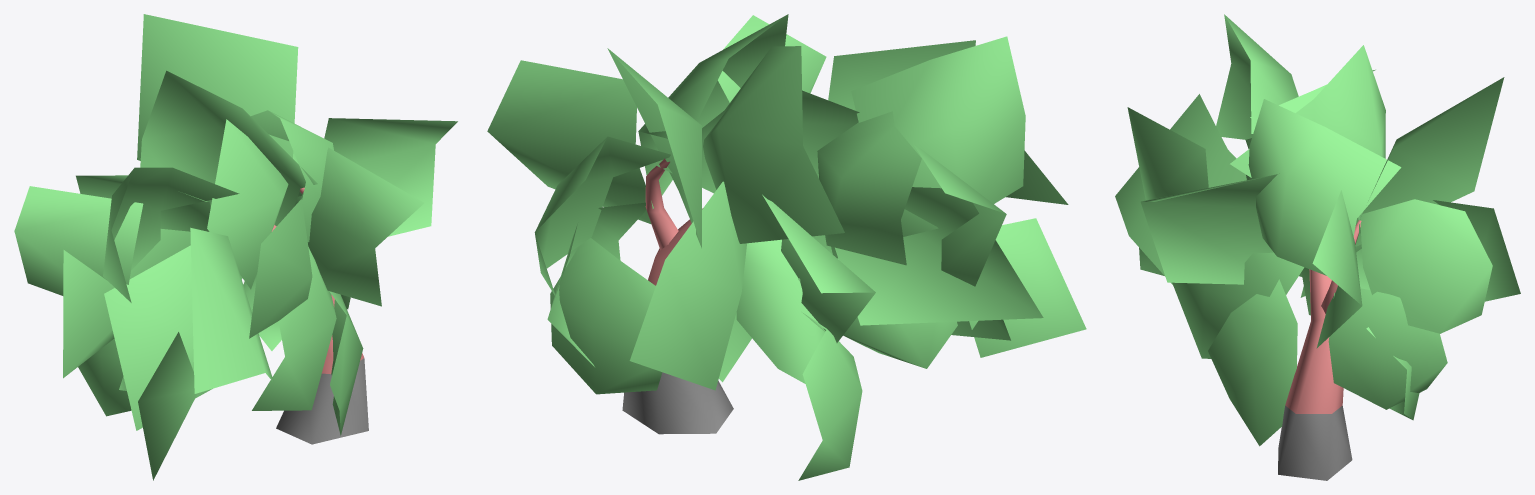
File: Oren_Darkelf_tree04.gltf
3 views of the same model, side by side, from view 1: azimuth 30°, elevation 25°; view 2: azimuth 150°, elevation 25°; view 3: azimuth 270°, elevation 25° (orthographic). The views are drawn at different scales.
Visible parts, largest first — view 1: Oren_Darkelf_tree04; view 2: Oren_Darkelf_tree04; view 3: Oren_Darkelf_tree04.
Boxes of the visible parts, x1=… form: Oren_Darkelf_tree04: x1=14, y1=14, x2=457, y2=480; Oren_Darkelf_tree04: x1=487, y1=14, x2=1086, y2=480; Oren_Darkelf_tree04: x1=1115, y1=14, x2=1520, y2=480.
Size of the model in its own units: 10.92 by 8.84 by 9.16.
